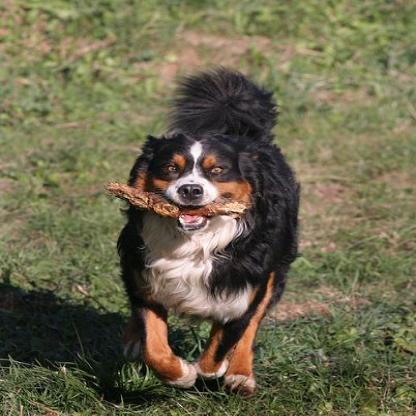Appenzeller: (105, 66, 300, 396)
